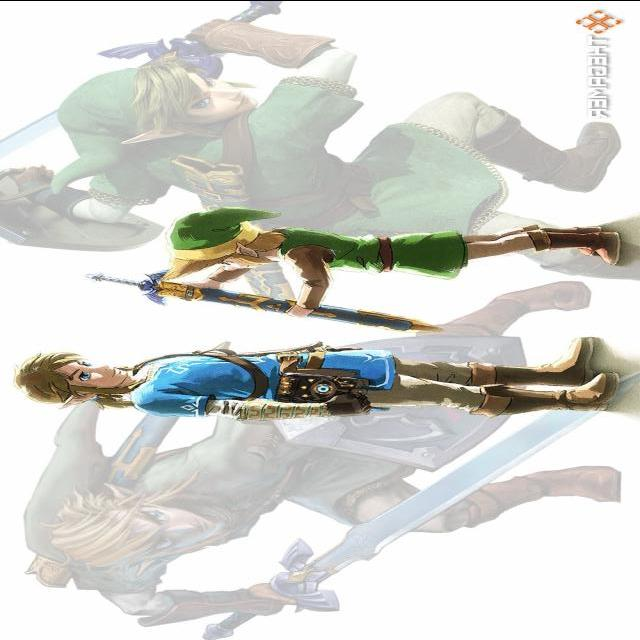sword: (204, 410, 634, 640), (1, 1, 283, 161), (81, 270, 442, 334)
